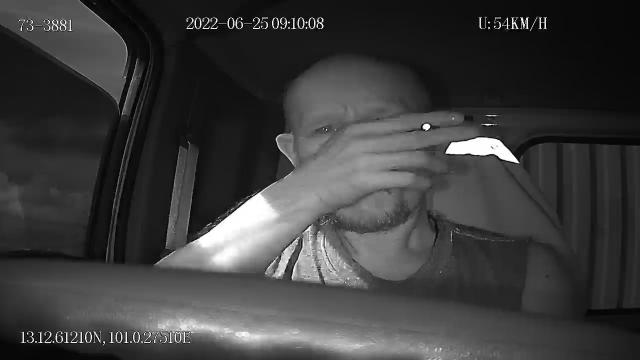Cigarette: (420, 119, 438, 131)
